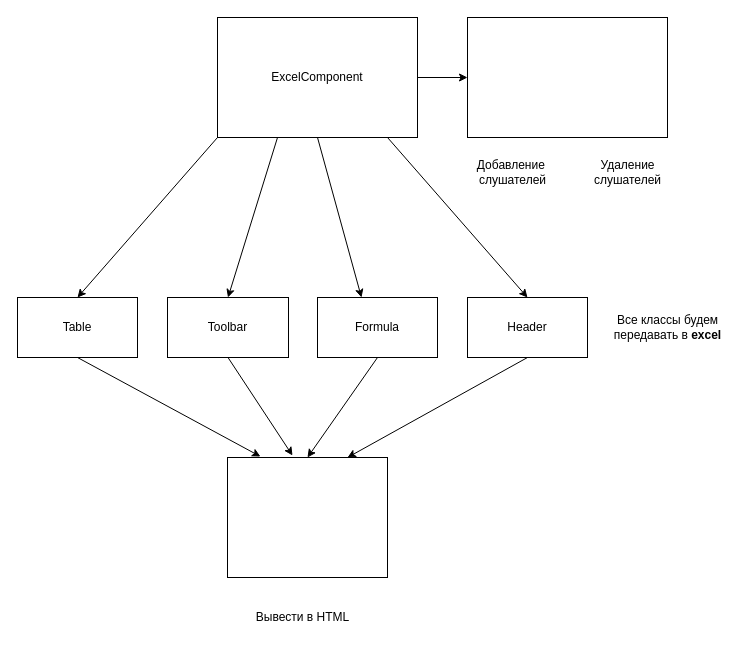
This 745x645 diagram has some shape labels left out. Each missing label, with the box of its shape:
DOMListener: (466, 16, 668, 138)
Excel: (226, 456, 388, 578)
